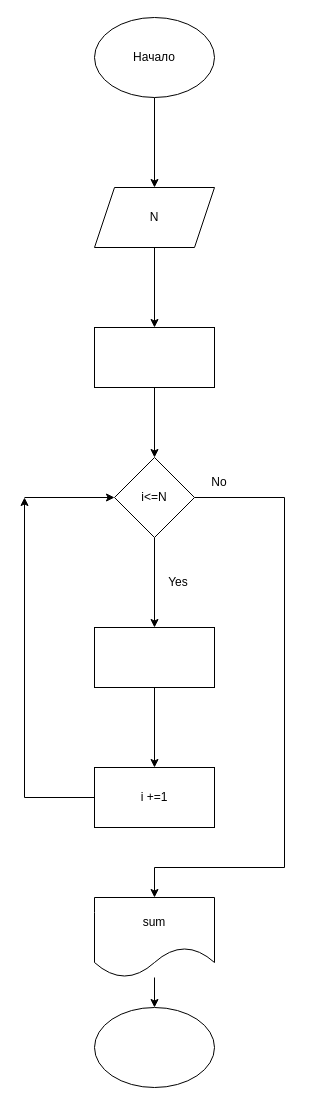
Image size: 310x1105. Some labels were removed from this diagram. The shapes that lost their labels are listed below. From the top down, each one's box as (x1, y1, x2, y2) in pixels, then its label:
(94, 326, 214, 388): i = 1 sum = 1
(94, 626, 214, 688): sum += i
(94, 1006, 214, 1088): Конец
